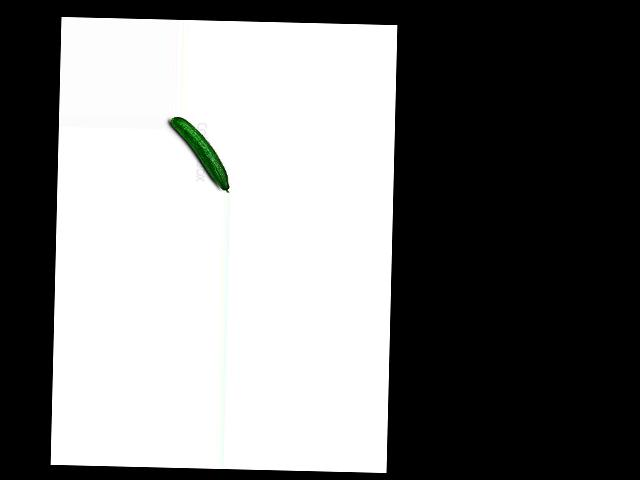cucumber: (168, 117, 230, 193)
